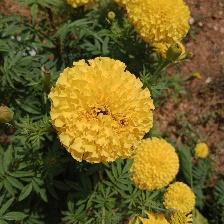marigold: (48, 65, 155, 167)
